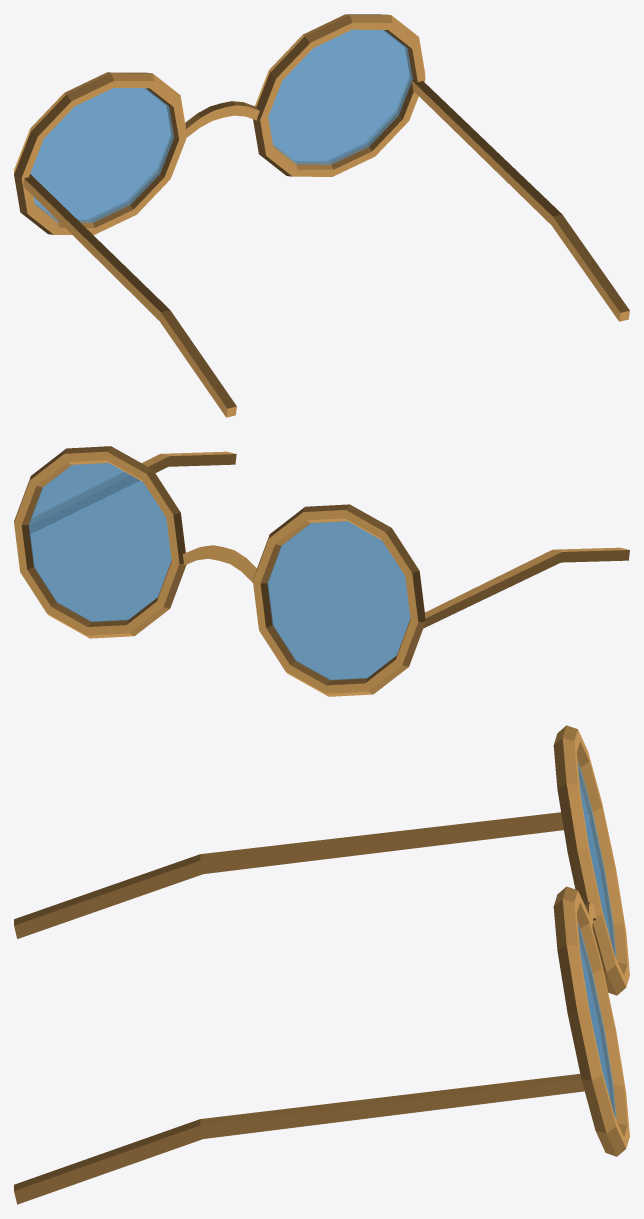
The model's file is Sunglasses.fbx.
3 renders of one model, top to bottom at view 1: azimuth 30°, elevation 25°; view 2: azimuth 150°, elevation 25°; view 3: azimuth 270°, elevation 25°, orthographic. The views are drawn at different scales.
Visible parts, largest first — view 1: Node 0; view 2: Node 0; view 3: Node 0.
Boxes of the visible parts, x1,y1,x2,y2 form: Node 0: [14, 14, 629, 417]; Node 0: [14, 446, 629, 696]; Node 0: [14, 725, 629, 1204].
Bounding box in the file's own units: 0.2417 × 0.1082 × 0.2581.
